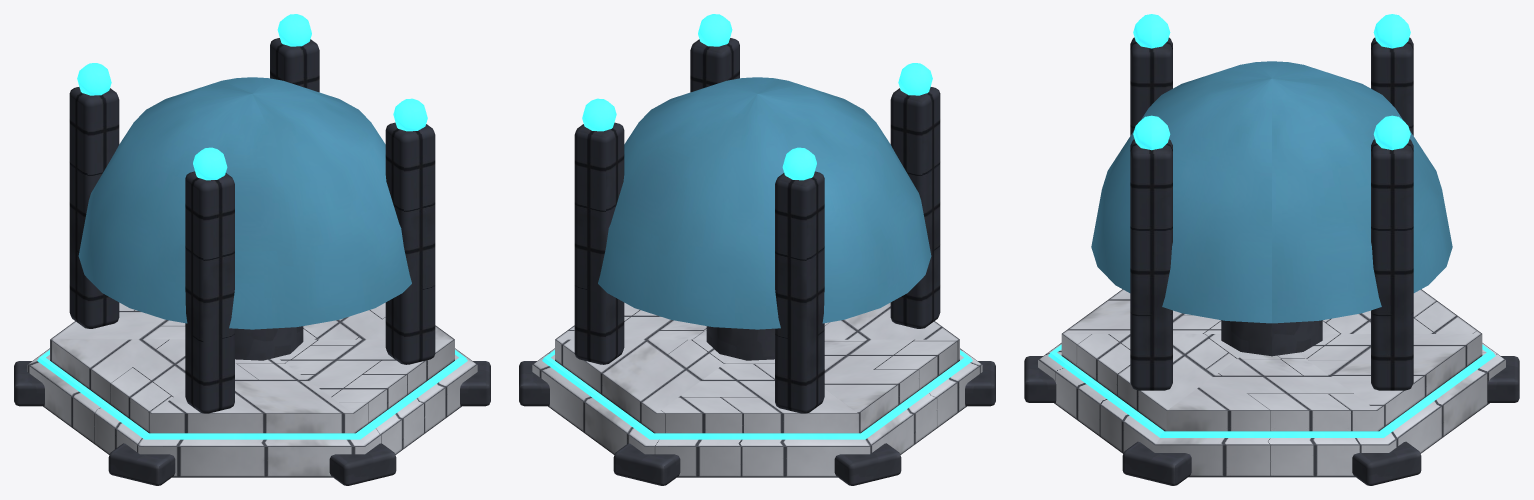
The model's file is sf_ward.glb.
The picture shows the model from 3 angles, left to right: view 1: azimuth 30°, elevation 25°; view 2: azimuth 150°, elevation 25°; view 3: azimuth 270°, elevation 25°; orthographic projection. The views are drawn at different scales.
Visible parts, largest first — view 1: Base; view 2: Base; view 3: Base.
Boxes of the visible parts, x1,y1,x2,y2 form: Base: [14, 14, 490, 485]; Base: [519, 14, 995, 485]; Base: [1024, 14, 1519, 485].
Bounding box in the file's own units: 0.8595 × 0.675 × 0.9324.
Materials: 5 (5 with a texture image).
